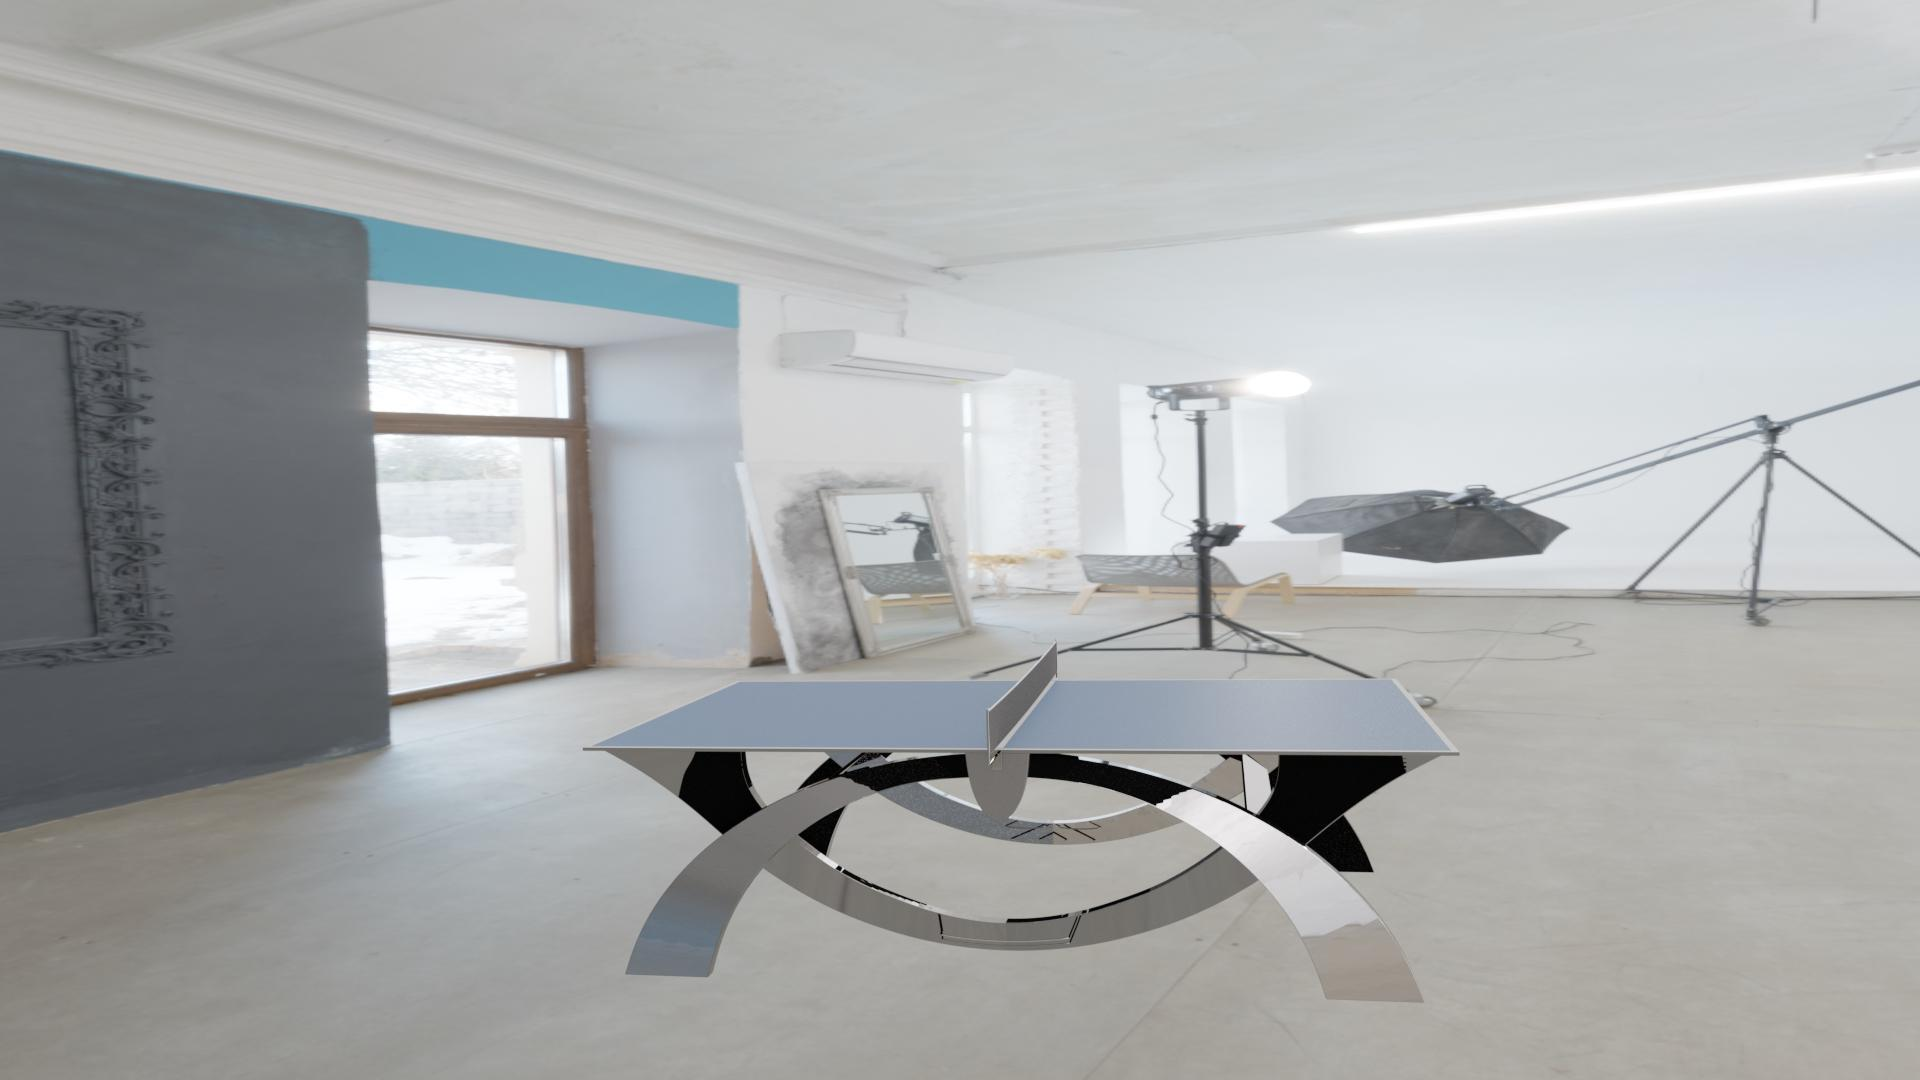table: (591, 679, 1452, 750)
